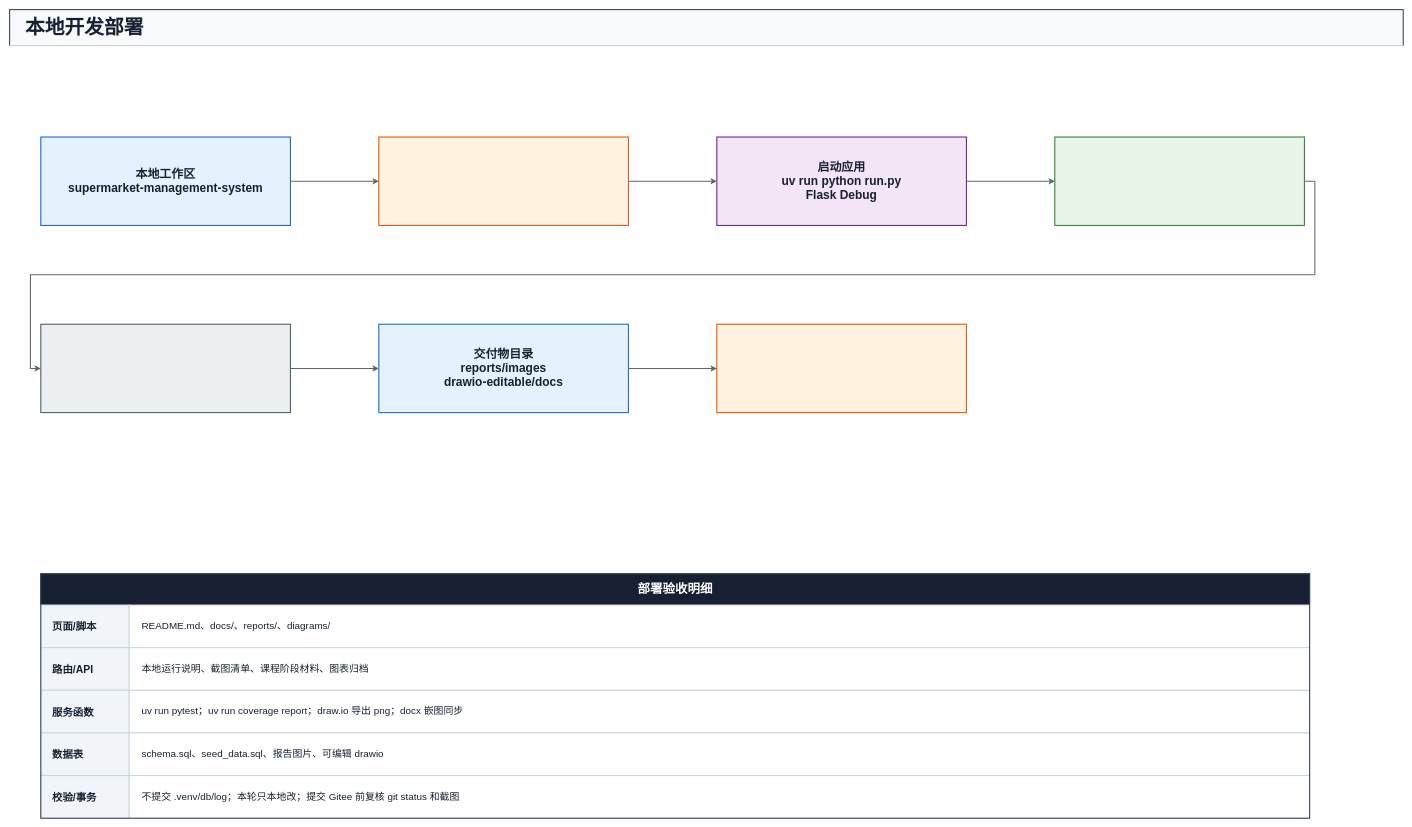
The diagram is 1412 pixels wide and 827 high, and some of its shapes have lost their labels. The shapes that lost their labels are listed below. From the top down, each one's centre as x and y in pixels, then its label:
At point 706,56: "部署图｜运行环境、初始化、验证、交付".
At point 503,181: "依赖环境 uv sync Python 3.13".
At point 1179,181: "数据库初始化 data/SQL/schema.sql seed_data.sql".
At point 165,368: "自动化验证 uv run pytest coverage report".
At point 841,368: "人工截图 manual-pages/*.png pytest/coverage.png".
